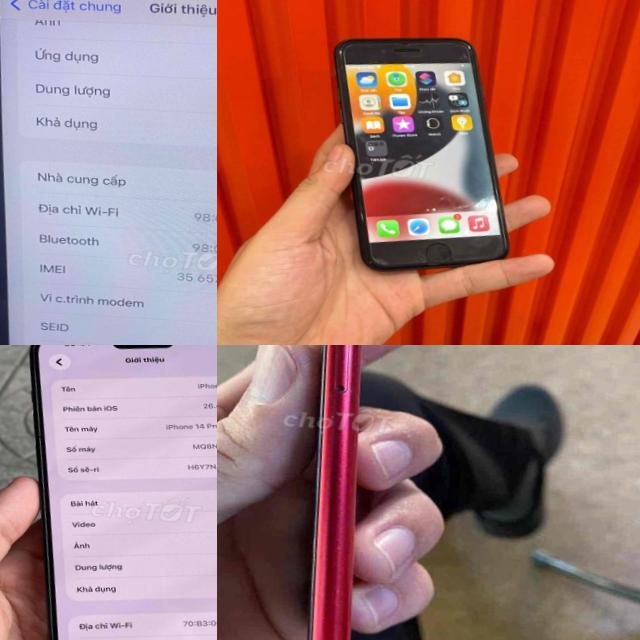scratch: (326, 532, 346, 597), (452, 38, 476, 61), (333, 42, 346, 65), (353, 205, 368, 222), (365, 256, 392, 264)
